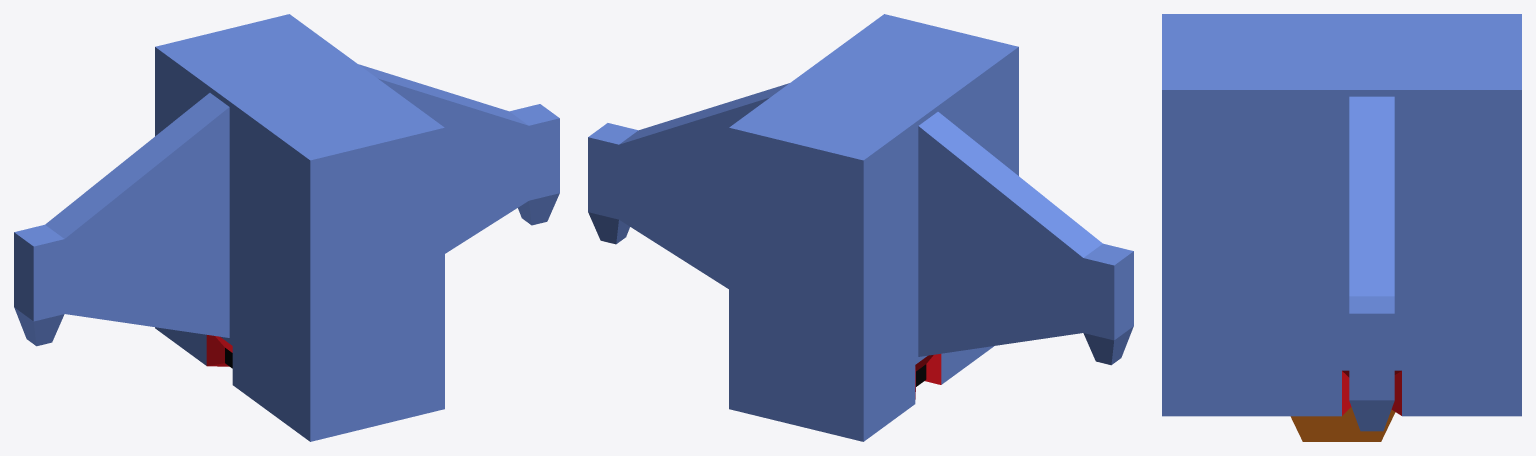
The model's file is KevA.fbx.
3 renders of one model, left to right at view 1: azimuth 30°, elevation 25°; view 2: azimuth 150°, elevation 25°; view 3: azimuth 270°, elevation 25°, orthographic. The views are drawn at different scales.
Visible parts, largest first — view 1: KevA; view 2: KevA; view 3: KevA.
Boxes of the visible parts, x1,y1,x2,y2 form: KevA: [14, 14, 559, 441]; KevA: [588, 14, 1133, 441]; KevA: [1162, 14, 1521, 441].
Size of the model in its own units: 200 by 234 by 391.
